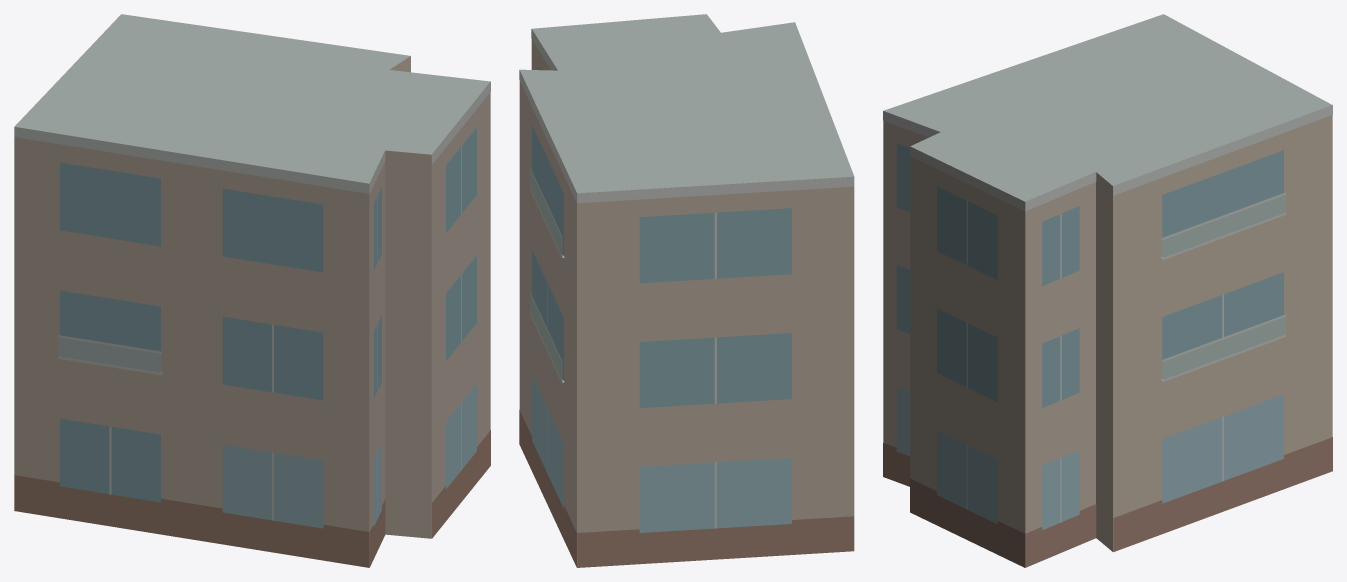
The model's file is survey-upis-32491449.glb.
3 views of the same model, side by side, from view 1: azimuth 30°, elevation 25°; view 2: azimuth 150°, elevation 25°; view 3: azimuth 270°, elevation 25° (orthographic). The views are drawn at different scales.
Parts seen in each view (by area): view 1: survey-upis-32491449.tmp; view 2: survey-upis-32491449.tmp; view 3: survey-upis-32491449.tmp.
Part boxes in pixels (x1,y1,x2,y2): survey-upis-32491449.tmp: (14,14,490,567); survey-upis-32491449.tmp: (519,14,854,567); survey-upis-32491449.tmp: (883,14,1332,567).
Size of the model in its own units: 10.07 by 9.15 by 10.19.
